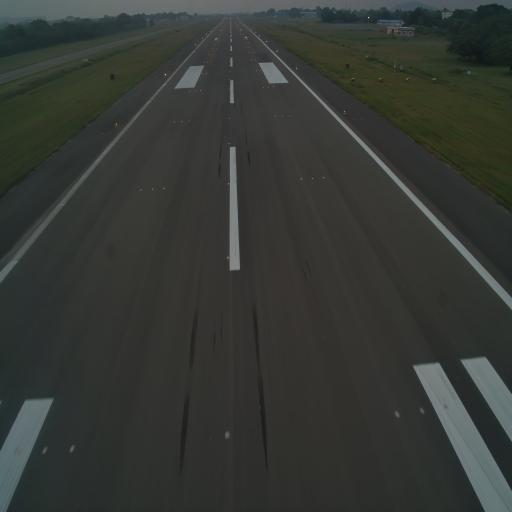off: (222, 428, 230, 441)
on: (137, 187, 143, 195), (227, 140, 232, 148), (114, 122, 119, 129), (162, 185, 166, 192), (226, 180, 230, 187), (299, 175, 303, 182), (310, 175, 314, 182), (226, 254, 229, 263), (343, 108, 346, 116), (321, 174, 325, 180), (151, 186, 154, 192), (187, 119, 191, 123), (173, 119, 176, 124), (281, 113, 284, 117), (181, 120, 183, 125), (228, 116, 230, 121), (274, 115, 276, 118), (288, 114, 290, 117)
